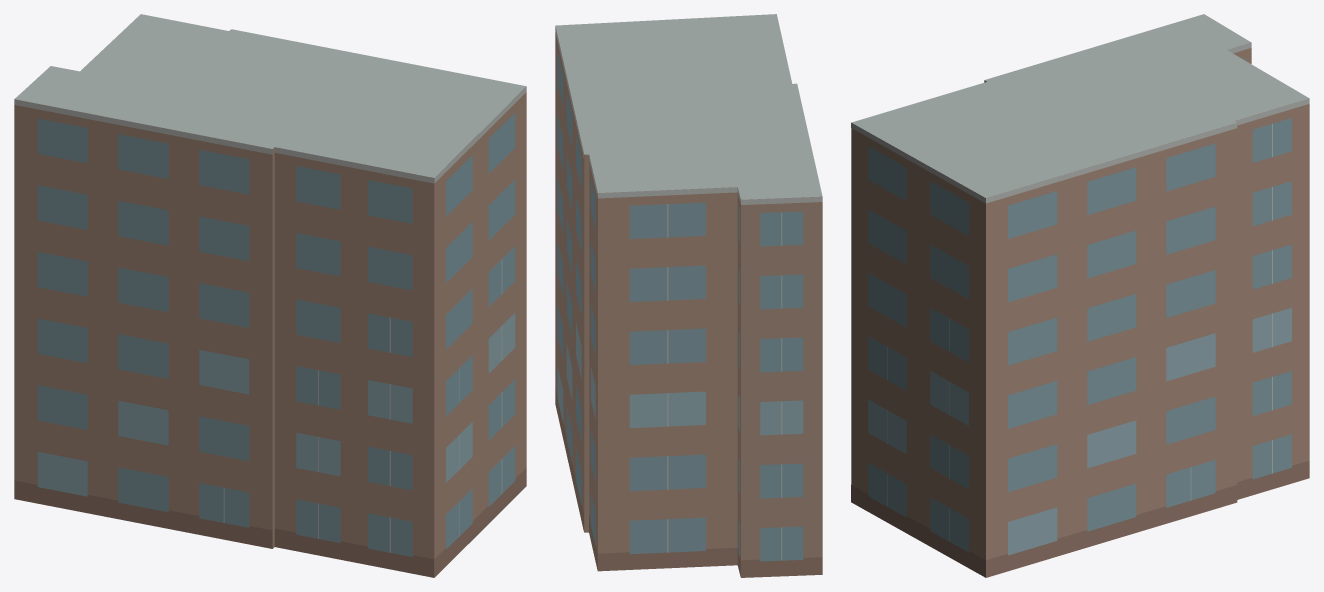
The model's file is survey-upis-32981319.glb.
The picture shows the model from 3 angles, left to right: view 1: azimuth 30°, elevation 25°; view 2: azimuth 150°, elevation 25°; view 3: azimuth 270°, elevation 25°; orthographic projection. The views are drawn at different scales.
Visible parts, largest first — view 1: survey-upis-32981319.tmp; view 2: survey-upis-32981319.tmp; view 3: survey-upis-32981319.tmp.
Part boxes in pixels (box(x1,y1,x2,y2)): survey-upis-32981319.tmp: box(14, 14, 526, 577); survey-upis-32981319.tmp: box(555, 14, 822, 577); survey-upis-32981319.tmp: box(851, 14, 1309, 577).
Bounding box in the file's own units: 18.01 × 17.3 × 18.94.
